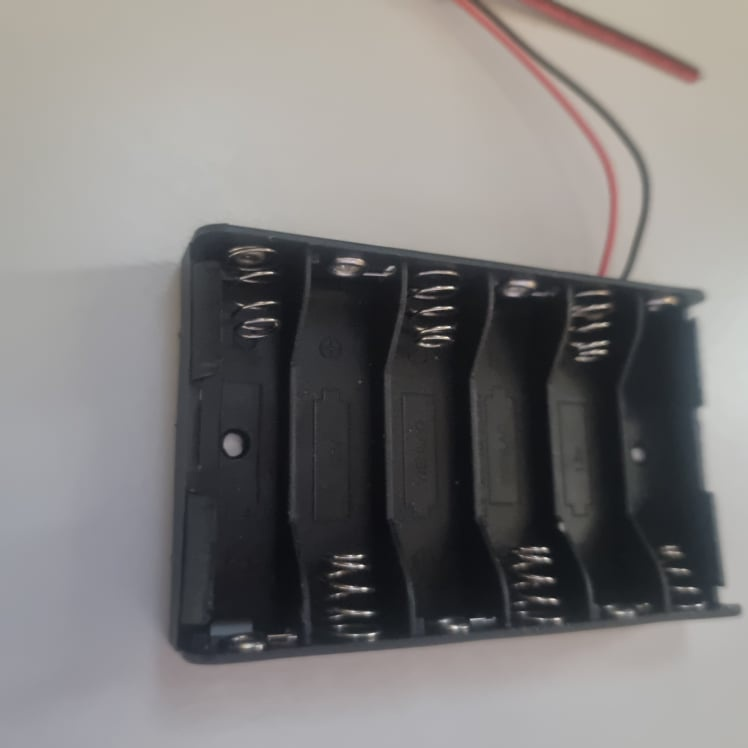BATTERY BOX: (169, 214, 742, 665)
